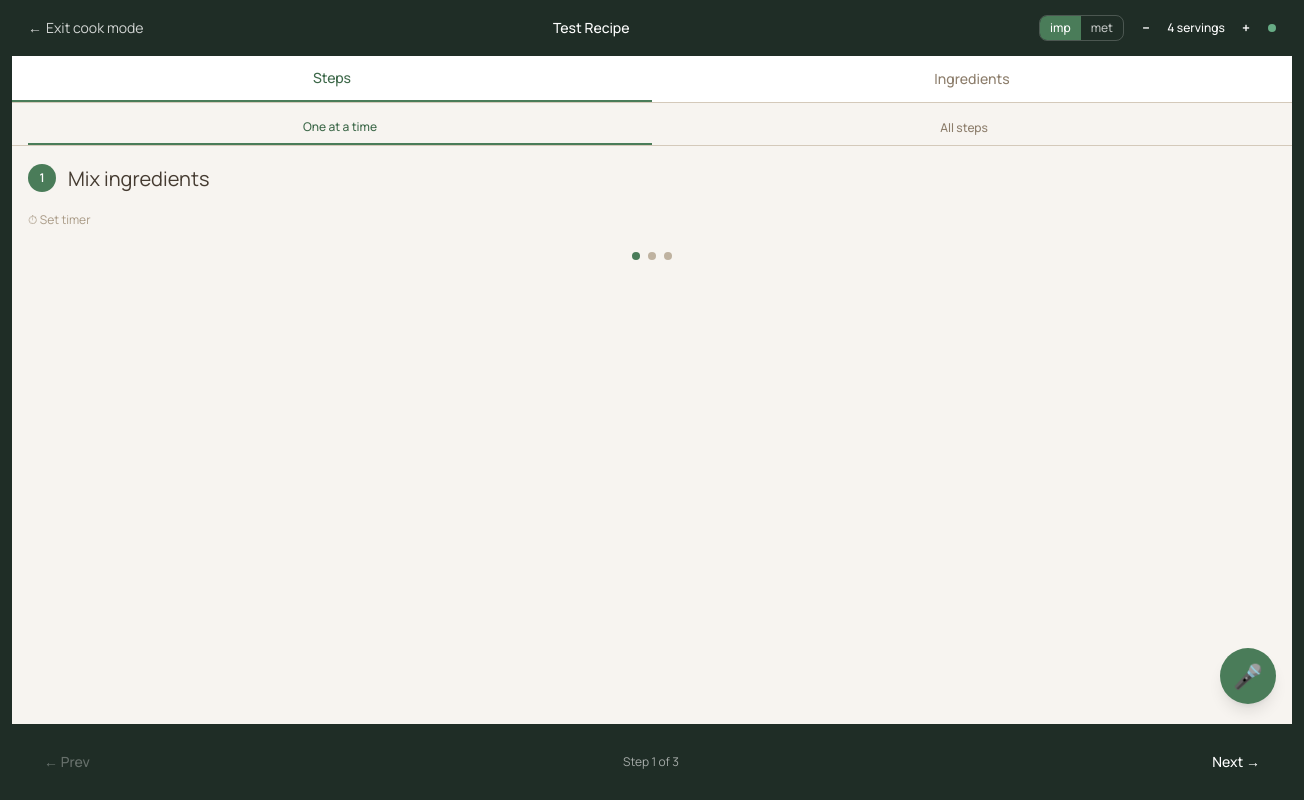
it: T07 - "Next" → "Done" on final step › shows Log Made Today on final step instead of Next
The width and height of the screenshot is (1304, 800).
Click the button "Next →". click: {"x": 1236, "y": 762}
box: x1=1196 y1=740 x2=1276 y2=784
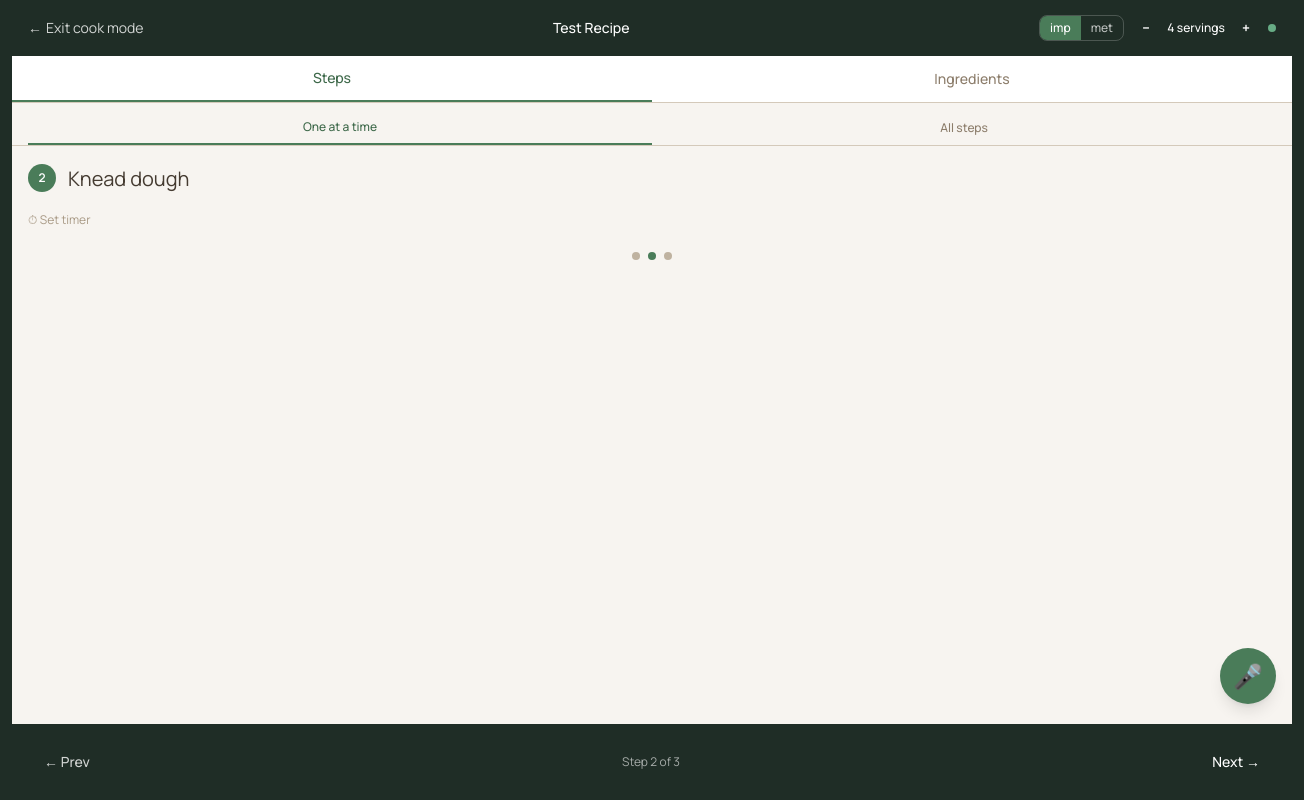
Click the button "Next →". click: {"x": 1236, "y": 762}
box: x1=1196 y1=740 x2=1276 y2=784
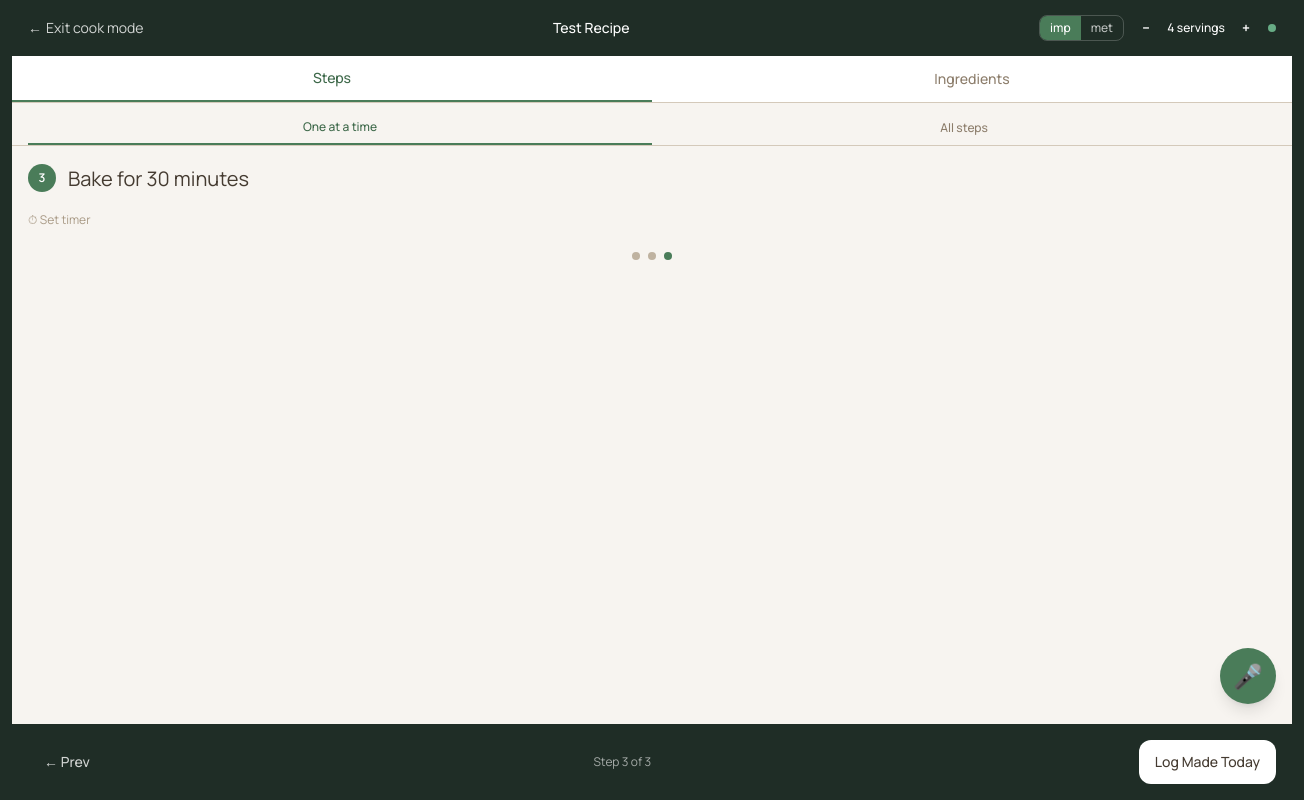
expect the button "Log Made Today" is shown: met, box x1=1139 y1=740 x2=1276 y2=784
expect the button "Next →" is gone: met
